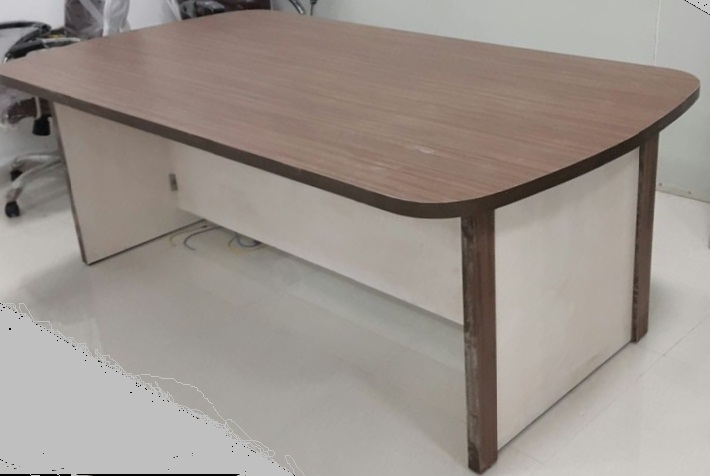conference_table: (2, 8, 700, 473)
